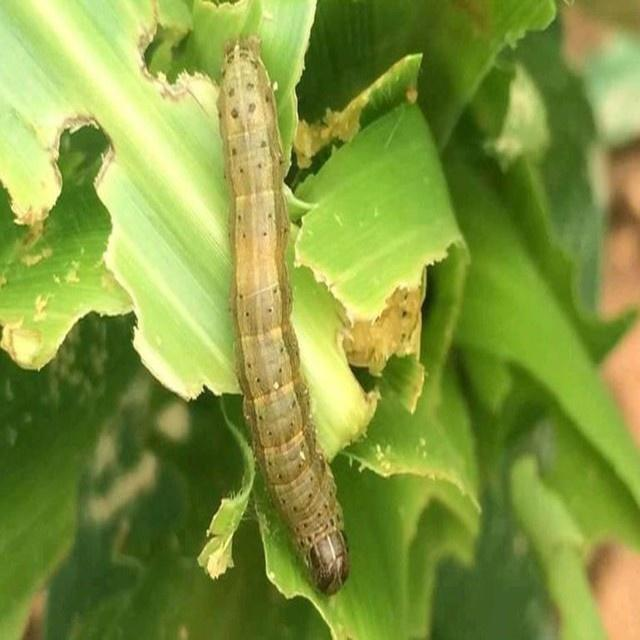yellow-stem-borer-larva: (189, 38, 371, 603)
